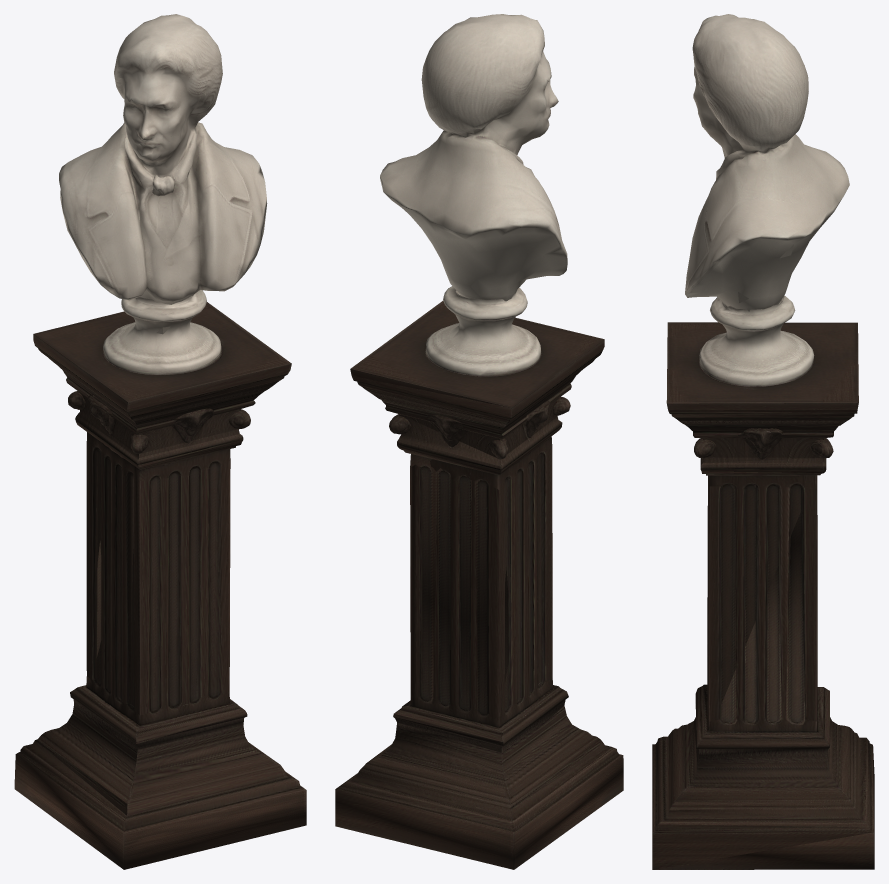
File: rrr_prop_pedestal-bust_v1.glb
The picture shows the model from 3 angles, left to right: view 1: azimuth 30°, elevation 25°; view 2: azimuth 150°, elevation 25°; view 3: azimuth 270°, elevation 25°; orthographic projection. The views are drawn at different scales.
Visible parts, largest first — view 1: Mesh_0.001; view 2: Mesh_0.001; view 3: Mesh_0.001.
Part boxes in pixels (x1,y1,x2,y2): Mesh_0.001: (14,14,306,869); Mesh_0.001: (335,14,623,869); Mesh_0.001: (652,14,874,869).
Bounding box in the file's own units: 0.3891 × 1.6 × 0.4047.
1 material, 1 textured.
